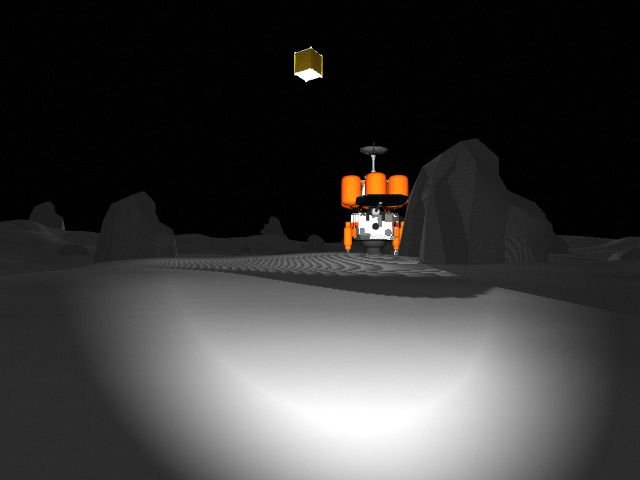cubesat: (288, 43, 327, 90)
